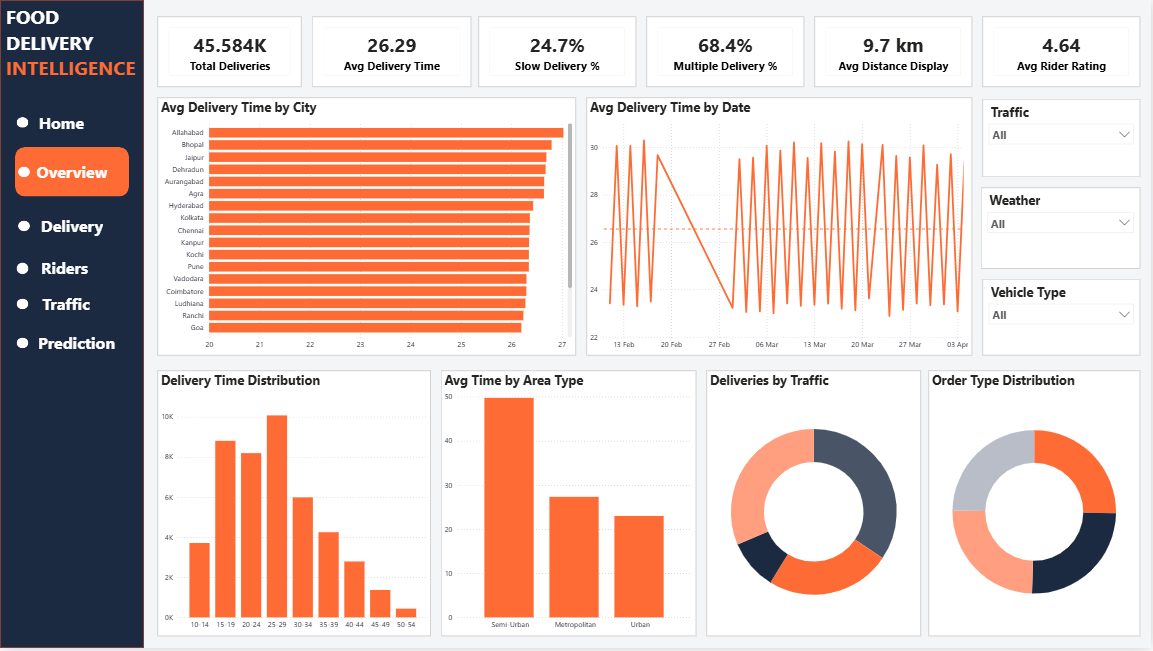

What the dashboard file says about the page in this screenshot:
{"tool":"powerbi","page":{"name":"Overview","canvas":[1920,1080],"ordinal":1},"visuals":[{"type":"shape","box":[0,0,240,1080],"z":0,"group":"g2"},{"type":"cardVisual","fields":{"Data":["_Measures (2).Total Deliveries"]},"box":[262.5,27.5,240,117.5],"z":0},{"type":"shape","box":[8,162.5,190,82.5],"z":0,"group":"g4"},{"type":"shape","box":[25,245,190,82.5],"z":0,"group":"g3"},{"type":"shape","box":[25,335,190,82.5],"z":0,"group":"g5"},{"type":"shape","box":[13,401,190,90],"z":0,"group":"g7"},{"type":"shape","box":[15,465,190,82.5],"z":0,"group":"g6"},{"type":"shape","box":[31.4,530,190,82.5],"z":0,"group":"g8"},{"type":"group","id":"g1","title":"Group 3","box":[0,0,241.2,1080],"z":1000},{"type":"textbox","box":[3.8,0,237.5,142.5],"z":1000,"group":"g2"},{"type":"shape","box":[29.1,195.4,20,18],"z":1000,"group":"g4"},{"type":"shape","box":[29.1,277.9,20,18],"z":1000,"group":"g3"},{"type":"shape","box":[29.1,367.9,20,18],"z":1000,"group":"g5"},{"type":"shape","box":[29.1,438.4,20,19.7],"z":1000,"group":"g7"},{"type":"shape","box":[28,497.9,20,18],"z":1000,"group":"g6"},{"type":"shape","box":[27.5,562.9,20,18],"z":1000,"group":"g8"},{"type":"cardVisual","fields":{"Data":["_Measures (2).Avg Delivery Time"]},"box":[520,27.5,265,117.5],"z":2000},{"type":"cardVisual","fields":{"Data":["_Measures (2).Avg Distance Display"]},"box":[1357.5,27.5,262.5,117.5],"z":3000},{"type":"cardVisual","fields":{"Data":["_Measures (2).Avg Rider Rating"]},"box":[1637.5,27.5,262.5,117.5],"z":4000},{"type":"cardVisual","fields":{"Data":["_Measures (2).Slow Delivery %"]},"box":[797.5,27.5,262.5,117.5],"z":5000},{"type":"group","id":"g2","title":"Group 1","box":[0,0,241.2,1080],"z":6000,"group":"g1"},{"type":"clusteredBarChart","title":"Avg Delivery Time by City","fields":{"Category":["Dim City.City"],"Y":["_Measures (2).Avg Delivery Time"]},"box":[262.5,162.5,697.5,430],"z":6000},{"type":"cardVisual","fields":{"Data":["_Measures (2).Multiple Delivery %"]},"box":[1077.5,27.5,262.5,117.5],"z":7000},{"type":"lineChart","fields":{"Category":["Dim Date.Date"],"Y":["_Measures (2).Avg Delivery Time"]},"box":[977.5,162.5,642.5,430],"z":8000},{"type":"columnChart","title":"Delivery Time Distribution","fields":{"Y":["_Measures (2).Total Deliveries"],"Category":["Fact Delivery.Time Bin"]},"box":[262.5,617.5,455,442.5],"z":9000},{"type":"donutChart","title":"Deliveries by Traffic","fields":{"Category":["Fact Delivery.Traffic"],"Y":["_Measures (2).Total Deliveries"]},"box":[1177.5,617.5,357.5,442.5],"z":10000},{"type":"donutChart","title":" Order Type Distribution","fields":{"Y":["_Measures (2).Total Deliveries"],"Category":["Fact Delivery.Order Type"]},"box":[1547.5,617.5,352.5,442.5],"z":11000},{"type":"columnChart","title":"Avg Time by Area Type","fields":{"Y":["_Measures (2).Avg Delivery Time"],"Category":["Fact Delivery.Area Type"]},"box":[735,617.5,425,442.5],"z":12000},{"type":"slicer","fields":{"Values":["Fact Delivery.Traffic"]},"box":[1637.5,165,262.5,130],"z":13000},{"type":"group","id":"g3","title":"Group 2","box":[25,245,190,82.5],"z":13000,"group":"g1"},{"type":"group","id":"g4","title":"Group 2","box":[8,162.5,190,82.5],"z":14000,"group":"g1"},{"type":"slicer","fields":{"Values":["Fact Delivery.Weather"]},"box":[1635,312.5,265,135],"z":14000},{"type":"group","id":"g5","title":"Group 2","box":[25,335,190,82.5],"z":15000,"group":"g1"},{"type":"group","id":"g6","title":"Group 2","box":[15,465,190,82.5],"z":15000},{"type":"slicer","fields":{"Values":["Fact Delivery.Vehicle Type"]},"box":[1637.5,465,262.5,127.5],"z":16000},{"type":"group","id":"g7","title":"Group 2","box":[13,401,190,90],"z":17000,"group":"g1"},{"type":"group","id":"g8","title":"Group 2","box":[27.5,530,192.5,82.5],"z":18000,"group":"g1"}]}

Visuals, with their boxes in screenshot pixels (x1, y1, x2, y2), scaled from the page's 1920x1080 canvas onto the 1153x651 screenshot:
shape: 0, 0, 144, 650
cardVisual - _Measures (2).Total Deliveries: 158, 17, 302, 87
shape: 5, 98, 119, 148
shape: 15, 148, 129, 197
shape: 15, 202, 129, 252
shape: 8, 242, 122, 296
shape: 9, 280, 123, 330
shape: 19, 319, 133, 369
"Group 3" group: 0, 0, 145, 650
textbox: 2, 0, 145, 86
shape: 17, 118, 29, 129
shape: 17, 168, 29, 178
shape: 17, 222, 29, 233
shape: 17, 264, 29, 276
shape: 17, 300, 29, 311
shape: 17, 339, 29, 350
cardVisual - _Measures (2).Avg Delivery Time: 312, 17, 471, 87
cardVisual - _Measures (2).Avg Distance Display: 815, 17, 973, 87
cardVisual - _Measures (2).Avg Rider Rating: 983, 17, 1141, 87
cardVisual - _Measures (2).Slow Delivery %: 479, 17, 637, 87
"Group 1" group: 0, 0, 145, 650
"Avg Delivery Time by City" clusteredBarChart: 158, 98, 576, 357
cardVisual - _Measures (2).Multiple Delivery %: 647, 17, 805, 87
lineChart - Dim Date.Date x _Measures (2).Avg Delivery Time: 587, 98, 973, 357
"Delivery Time Distribution" columnChart: 158, 372, 431, 639
"Deliveries by Traffic" donutChart: 707, 372, 922, 639
" Order Type Distribution" donutChart: 929, 372, 1141, 639
"Avg Time by Area Type" columnChart: 441, 372, 697, 639
slicer - Fact Delivery.Traffic: 983, 99, 1141, 178
"Group 2" group: 15, 148, 129, 197
"Group 2" group: 5, 98, 119, 148
slicer - Fact Delivery.Weather: 982, 188, 1141, 270
"Group 2" group: 15, 202, 129, 252
"Group 2" group: 9, 280, 123, 330
slicer - Fact Delivery.Vehicle Type: 983, 280, 1141, 357
"Group 2" group: 8, 242, 122, 296
"Group 2" group: 17, 319, 132, 369
